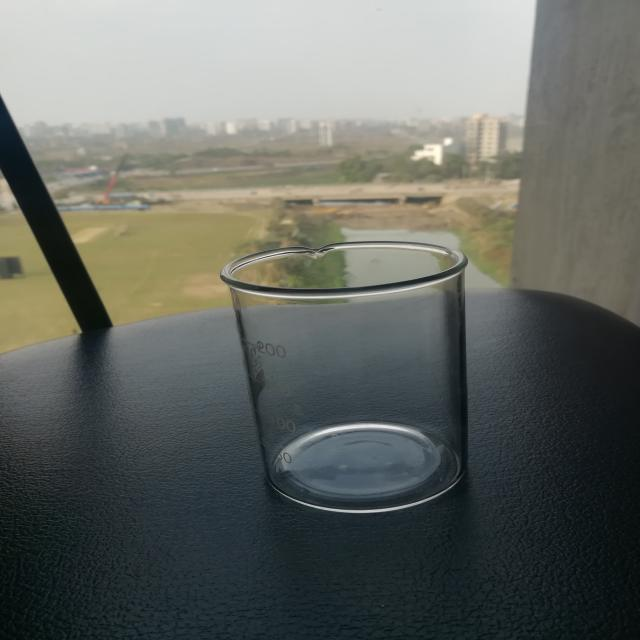Beaker: (196, 192, 521, 550)
